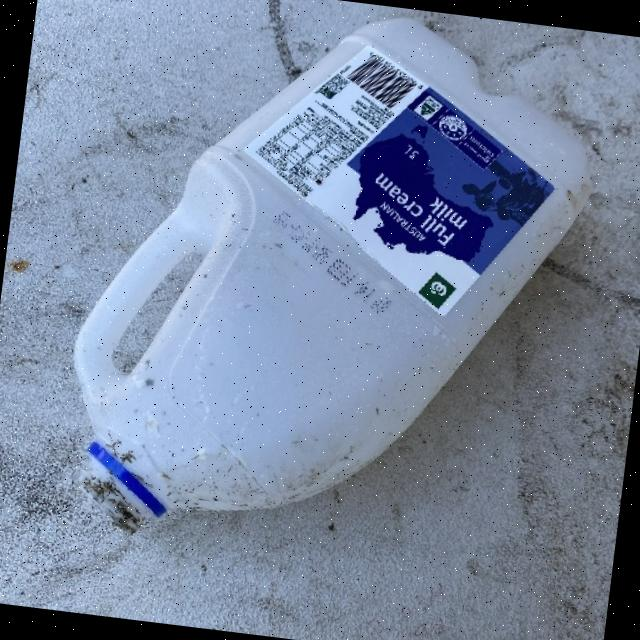plastic: (51, 0, 610, 578)
